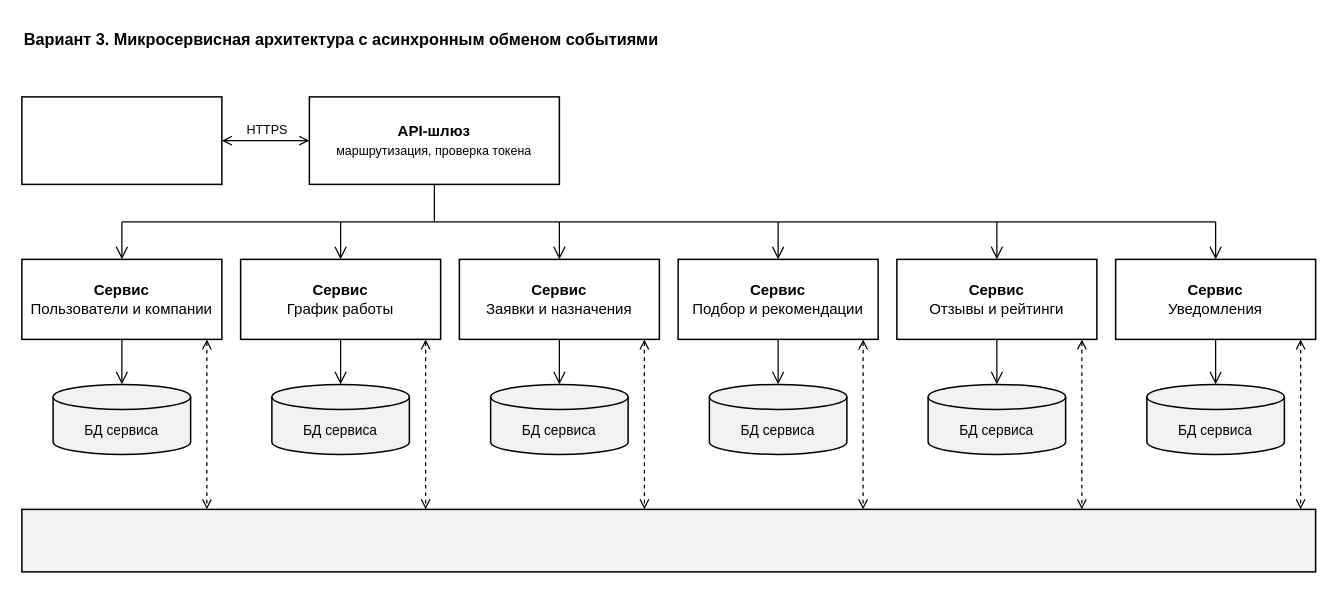
The diagram is 1339 pixels wide and 594 high, and some of its shapes have lost their labels. The centre of each missing label's shape, as x and y in pixels:
Браузер React SPA: (121,140)
Брокер сообщений события заявок и графика: (668,540)
